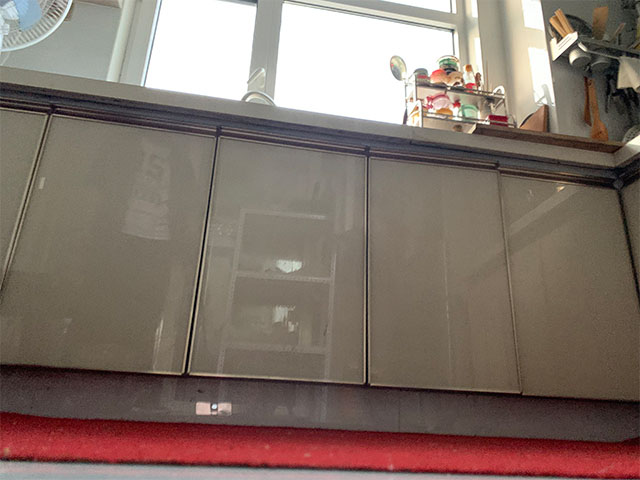cabinet: (1, 64, 640, 443)
carpet: (1, 408, 640, 479)
